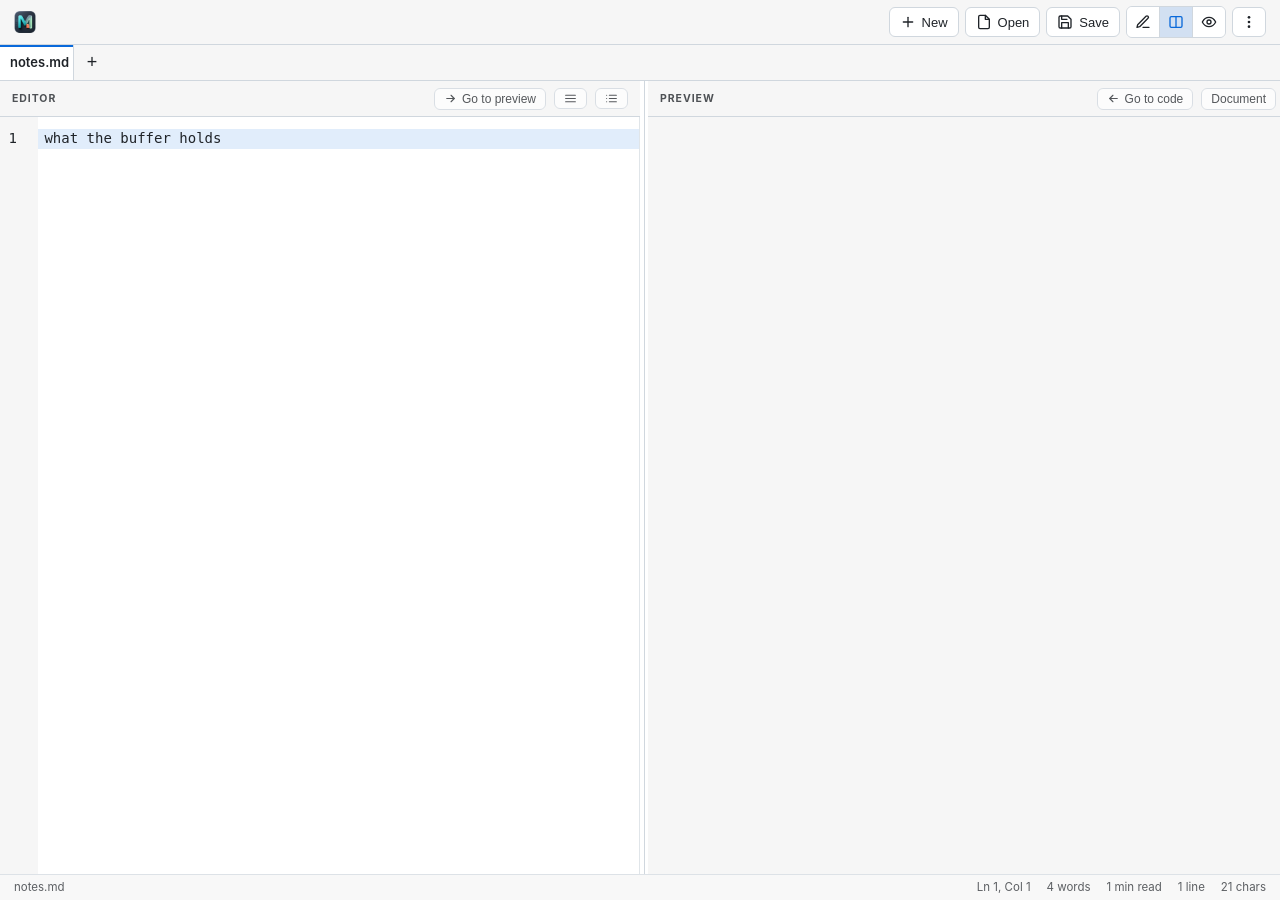
Scenario: reloading from disk › says so when the file cannot be read, and keeps the buffer
What coordinates should you click on to do the following:
click the button named "more options"
I would click on:
 (1249, 22)
Its box is x1=1232 y1=7 x2=1266 y2=37.
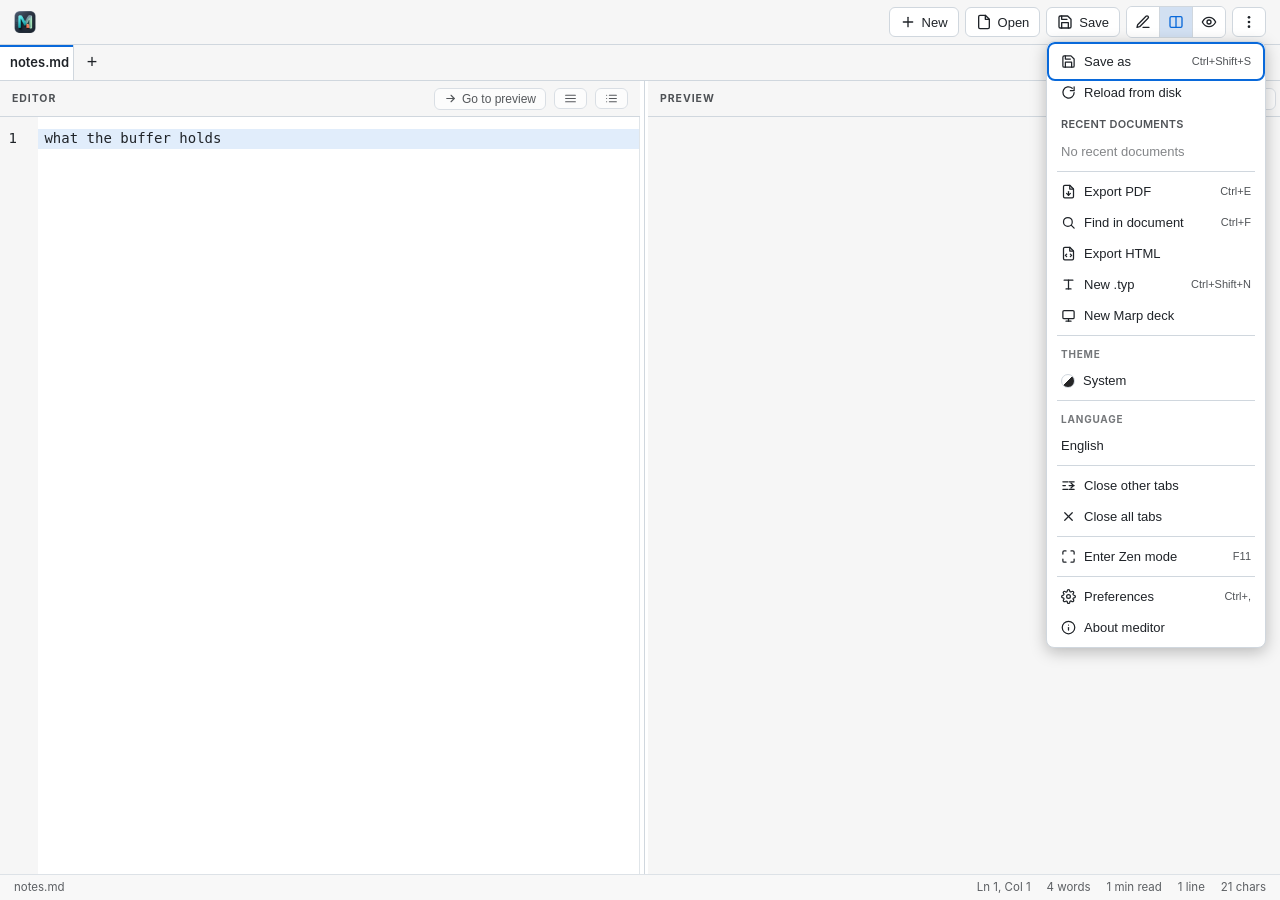
What coordinates should you click on to do the following:
click the menu item "Reload from disk"
I would click on:
 (1156, 92)
Its box is x1=1051 y1=77 x2=1261 y2=108.
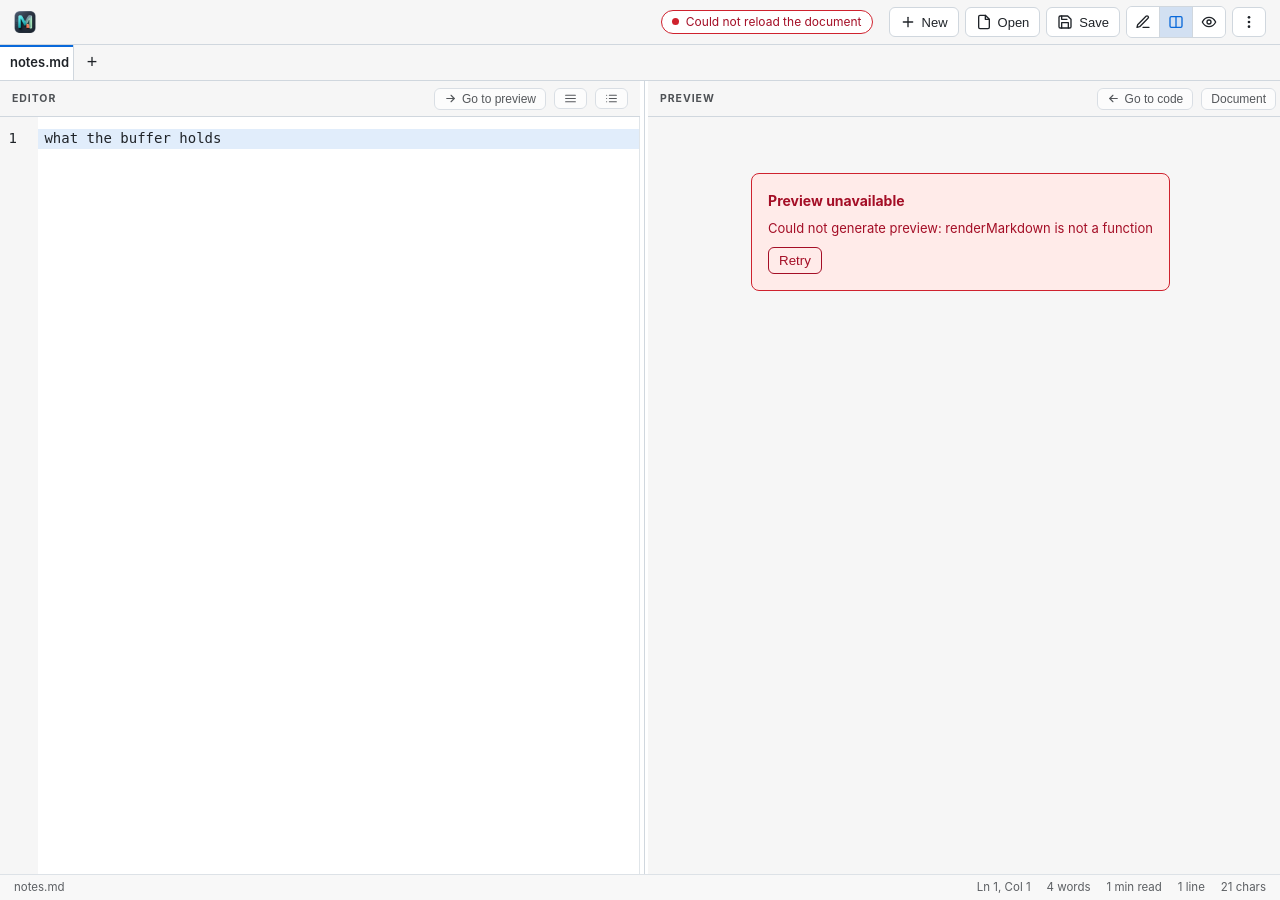
Expected: the text box labelled "what the buffer holds" is shown, x1=38 y1=129 x2=639 y2=149
Expected: the message with class "error" shows "Could not reload", x1=686 y1=14 x2=862 y2=29
